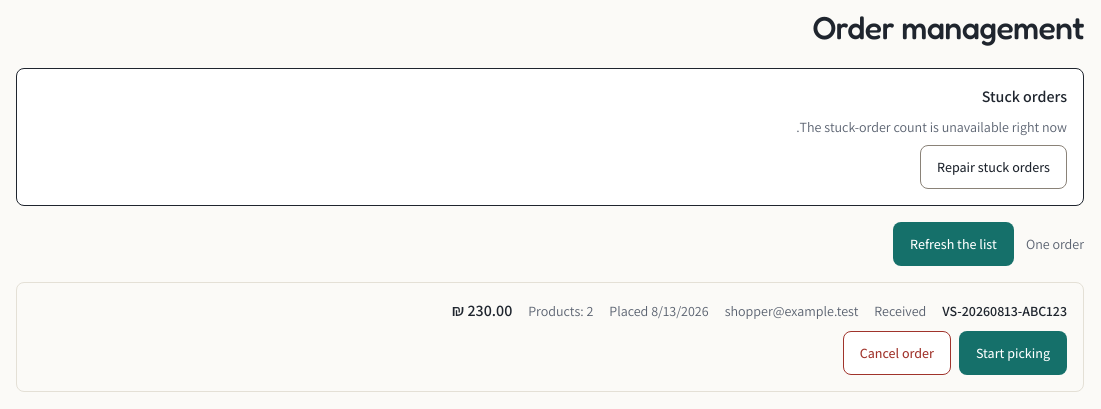
the list › 2026-09-06: the refresh button SHOWS it worked — busy while loading, then "up to date" (control: nothing before the click)
Click the button "Refresh the list" at [954, 244], box [893,222,1014,266]
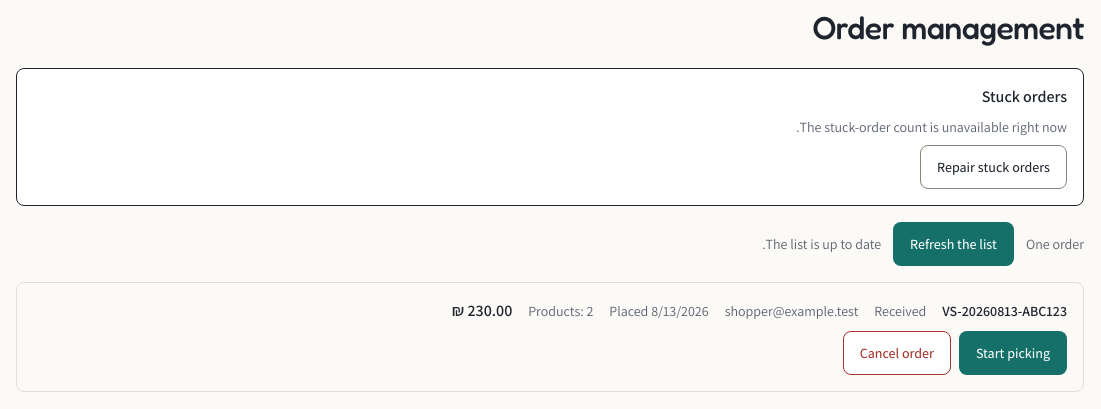
Now the text "The list is up to date." is shown, box [762,234,881,254]
Now the text with test id "refreshed-note" shows "up to date", box [762,235,881,253]
